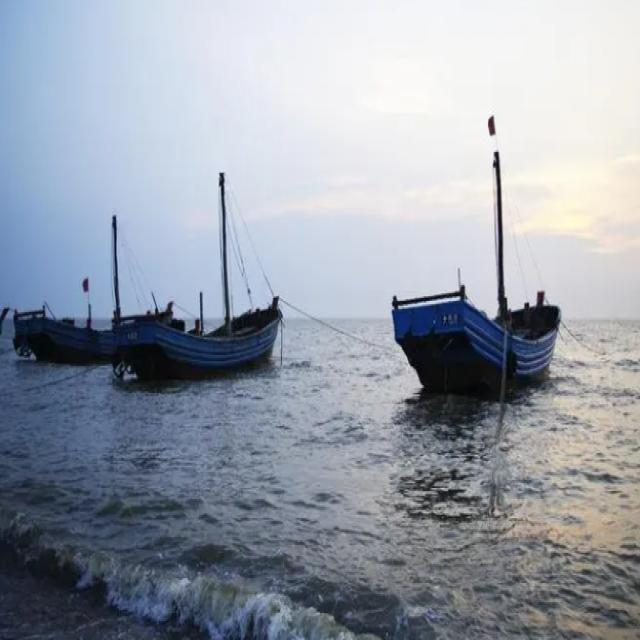fishing boat: (386, 114, 560, 391), (125, 174, 285, 369), (14, 206, 182, 368)
